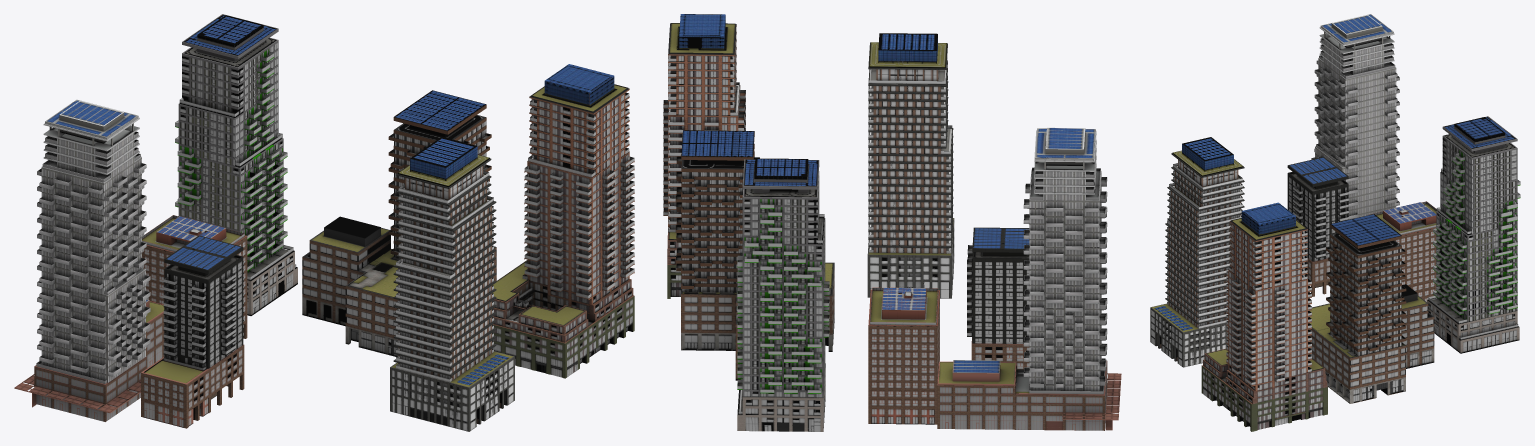
File: Spot_WorkFile.fbx
The picture shows the model from 3 angles, left to right: view 1: azimuth 30°, elevation 25°; view 2: azimuth 150°, elevation 25°; view 3: azimuth 270°, elevation 25°; orthographic projection. The views are drawn at different scales.
Parts seen in each view (by area): view 1: Spot; view 2: Spot; view 3: Spot.
Boxes of the visible parts, x1,y1,x2,y2 form: Spot: (14,14,634,431); Spot: (663,14,1121,431); Spot: (1150,14,1520,431).
Size of the model in its own units: 21551 by 10860 by 16166.
Materials: 7 (7 with a texture image).
